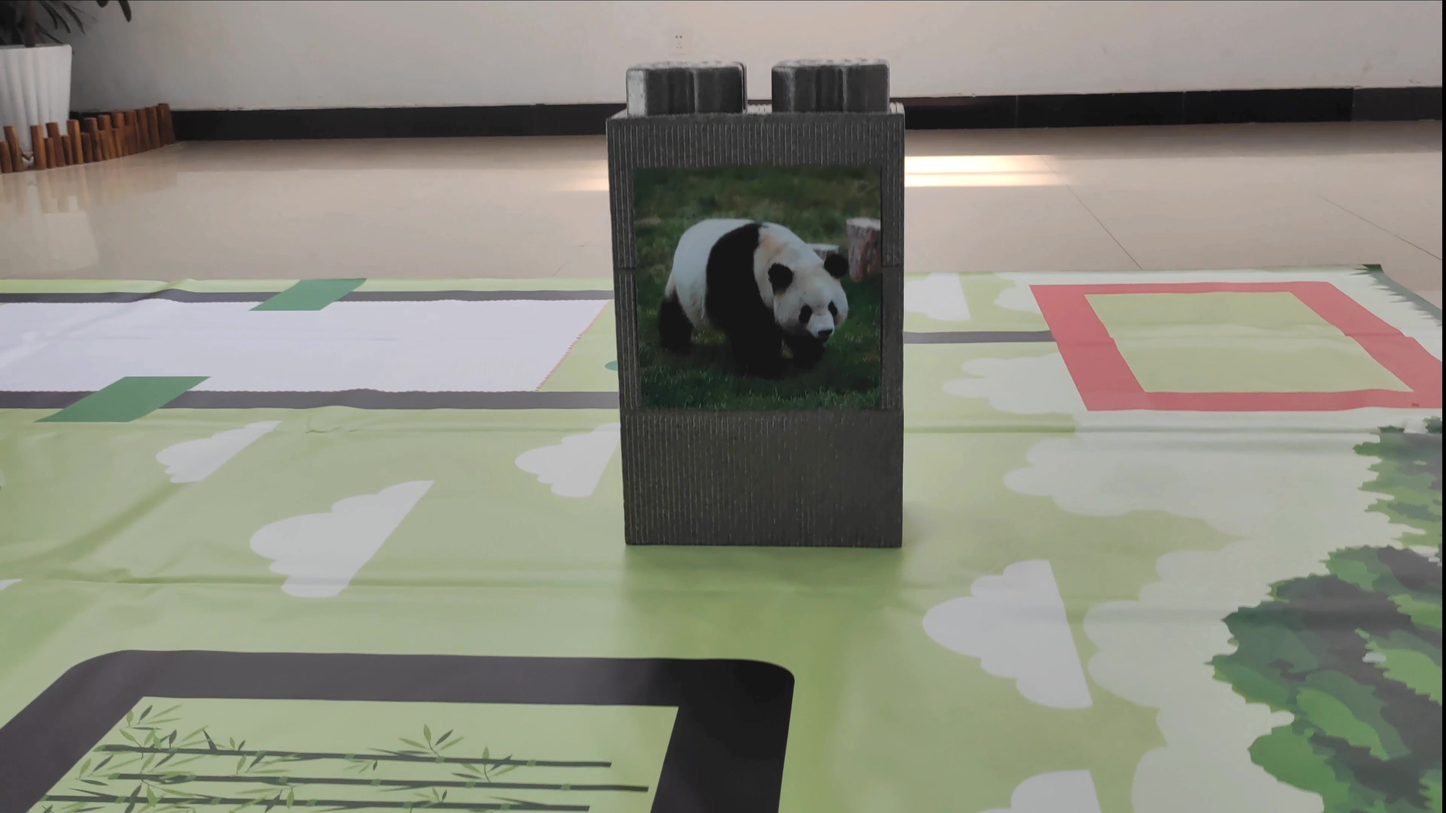panda: (631, 184, 874, 392)
